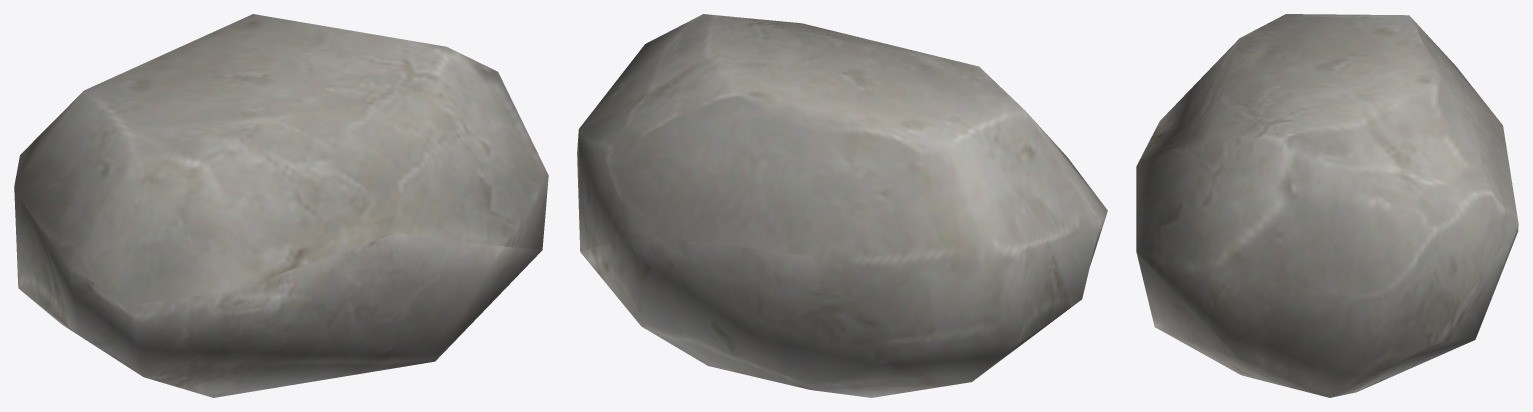
File: Rock_08_high.glb
3 renders of one model, left to right at view 1: azimuth 30°, elevation 25°; view 2: azimuth 150°, elevation 25°; view 3: azimuth 270°, elevation 25°, orthographic. The views are drawn at different scales.
Parts seen in each view (by area): view 1: rock_08; view 2: rock_08; view 3: rock_08.
Part boxes in pixels (x1,y1,x2,y2): rock_08: (14,14,548,397); rock_08: (577,14,1107,397); rock_08: (1136,14,1518,397).
Size of the model in its own units: 0.6766 by 0.3942 by 0.5108.
Materials: 1 (1 with a texture image).
